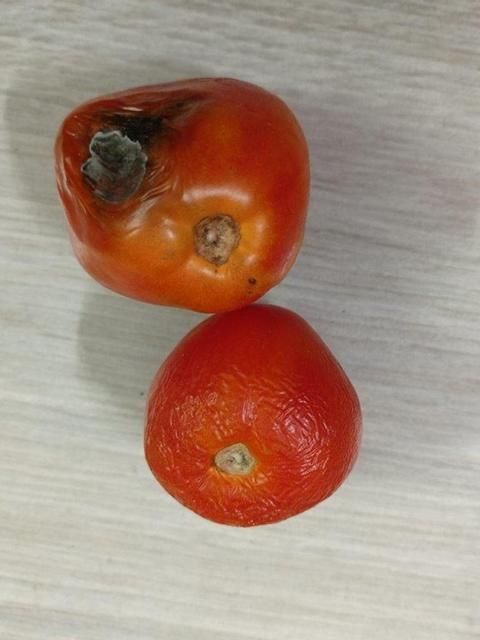defect: (48, 67, 316, 314)
